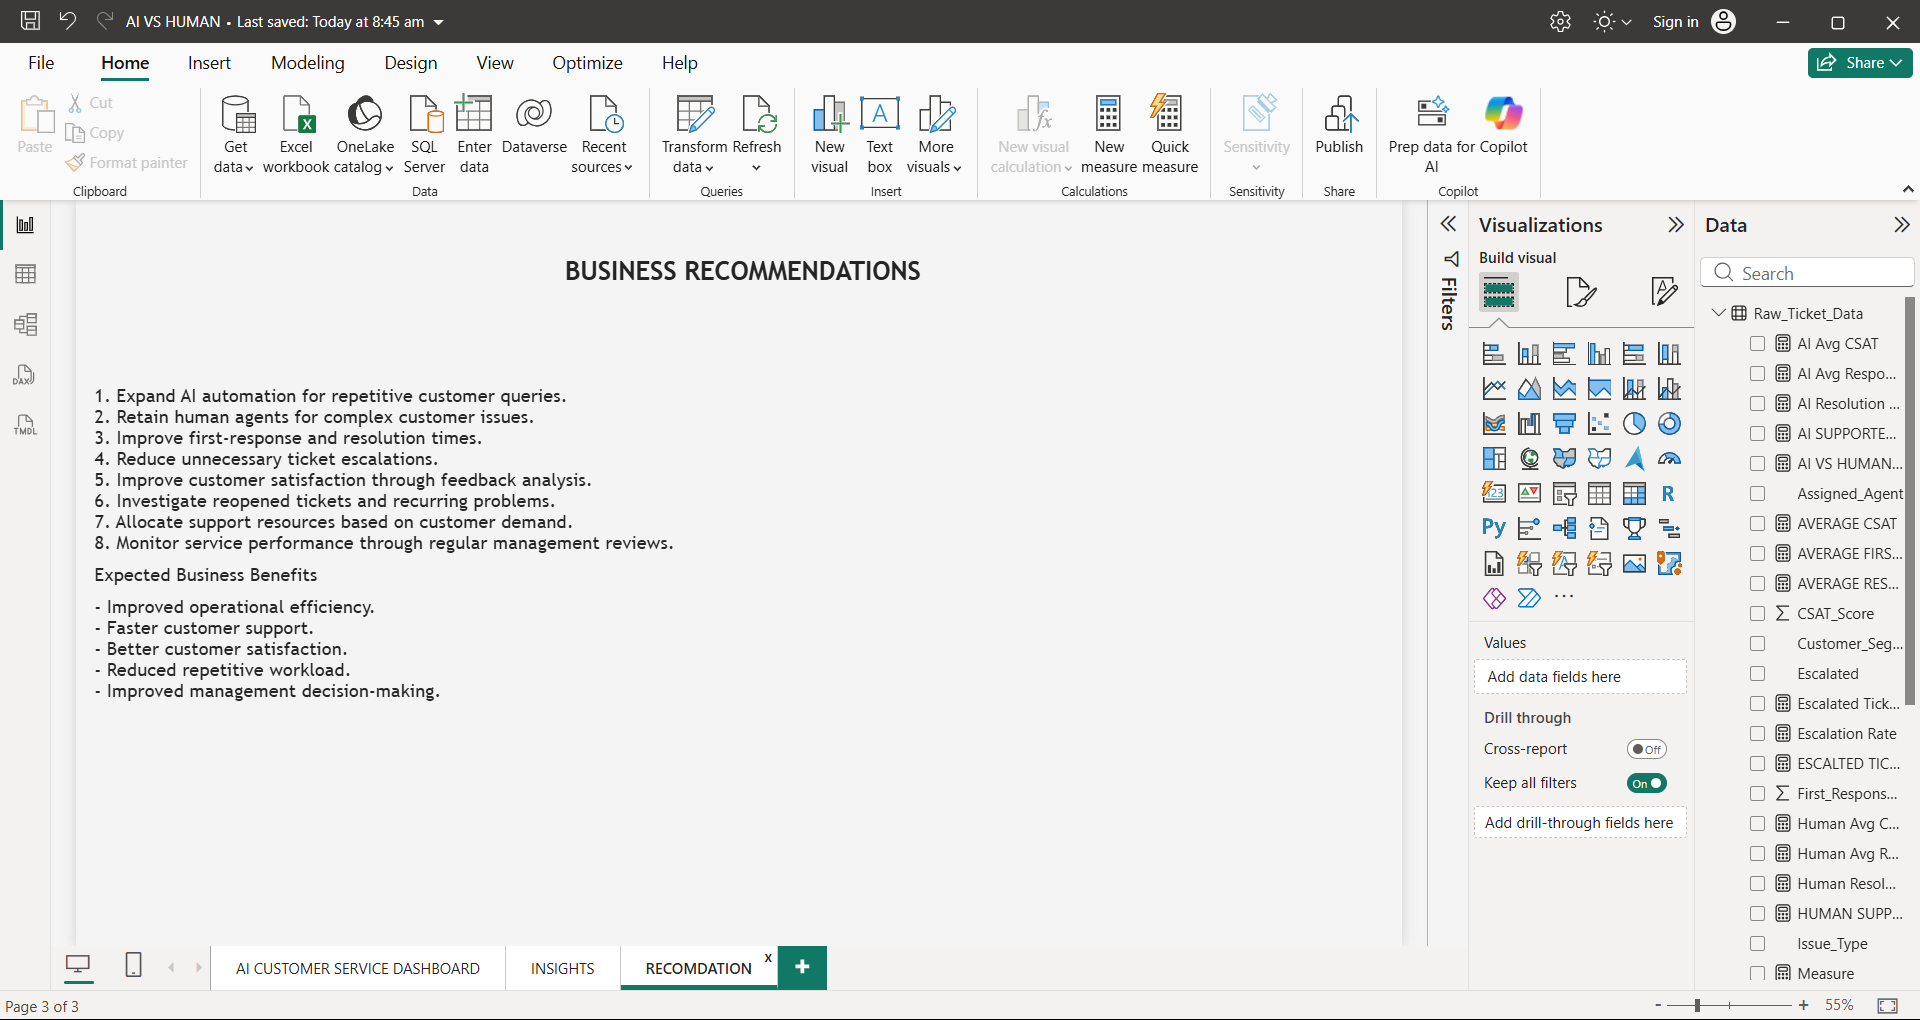

Layout of this report page (visuals, bound fields, positions):
{"tool":"powerbi","page":{"name":"RECOMDATION","canvas":[1920,1080],"ordinal":2},"visuals":[{"type":"textbox","box":[10.9,0,1909.2,233.4],"z":0},{"type":"textbox","box":[10.9,257,1909.2,655.1],"z":1000}]}

Visuals, with their boxes on the page's 1920x1080 design canvas (x1, y1, x2, y2). These are canvas units, not pixel positions in the 1920x1020 screenshot, which may show the page scaled, cropped or inside an application window:
textbox: {"left": 11, "top": 0, "right": 1920, "bottom": 233}
textbox: {"left": 11, "top": 257, "right": 1920, "bottom": 912}
